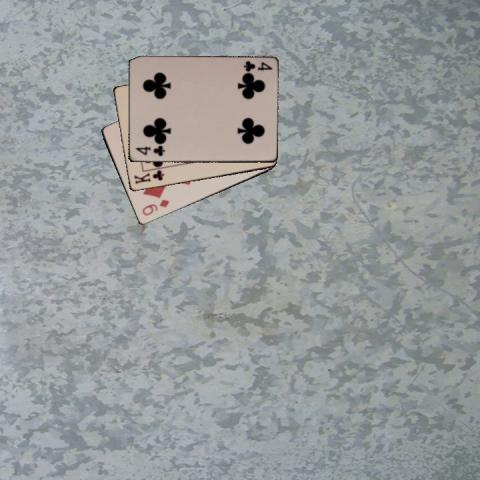4c: (240, 58, 273, 73), (133, 144, 166, 158)
9d: (138, 197, 170, 217)
Kc: (131, 168, 165, 185)
